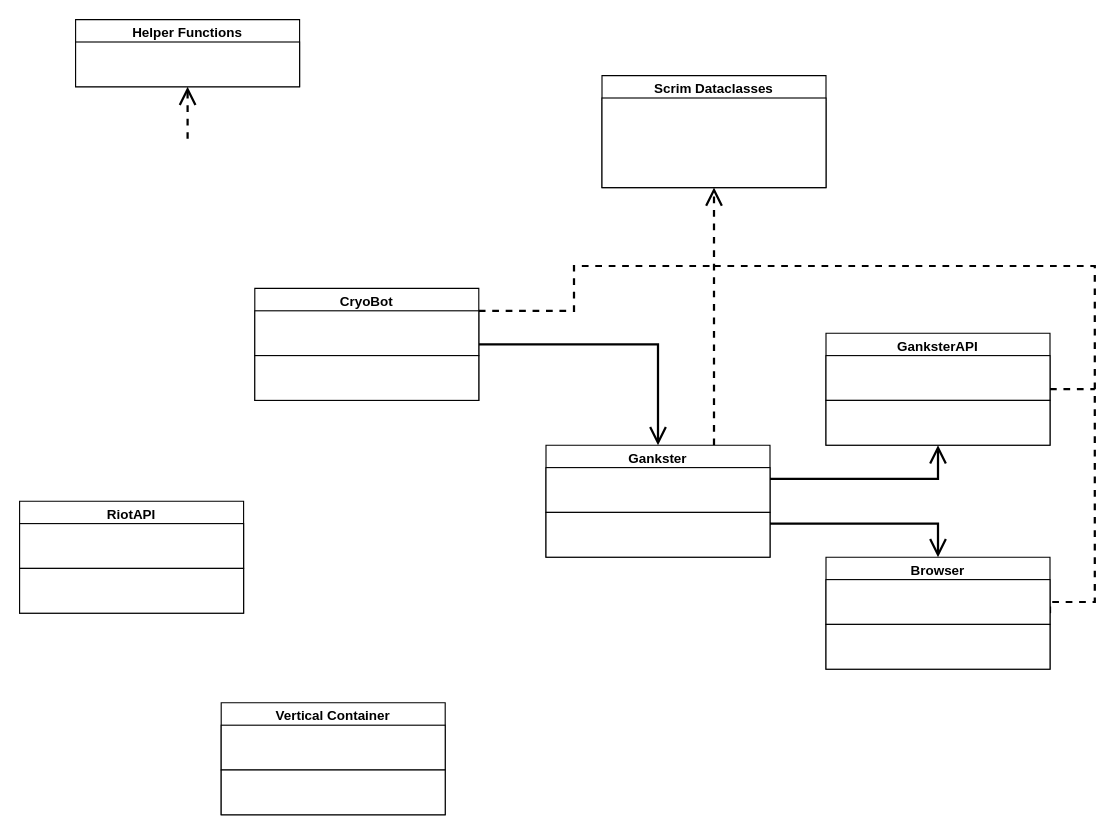
Image size: 1117x834. Some labels were removed from this diagram. The centre of each missing label's shape, as x and y in pixels:
- debugPrint(text: String) - getVariable(varName: String): point (187, 64)
- Scrim - Team - Reputation - Player - Rank: point (713, 142)
